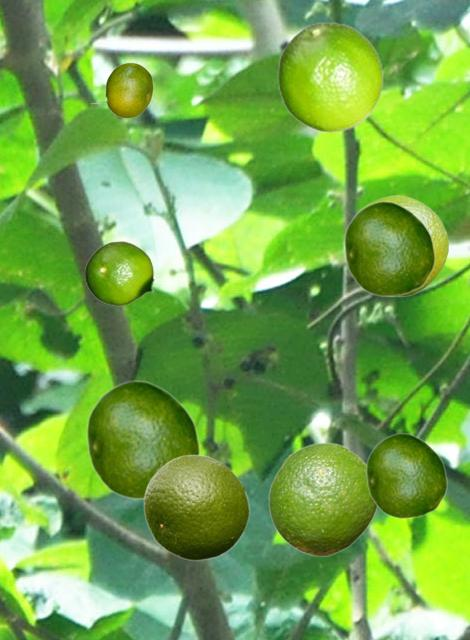calamansi: (85, 379, 200, 499), (268, 442, 377, 556), (277, 21, 383, 131), (143, 453, 249, 560), (343, 200, 435, 296), (363, 195, 447, 295), (365, 432, 447, 518), (84, 241, 161, 305), (89, 62, 152, 117)
